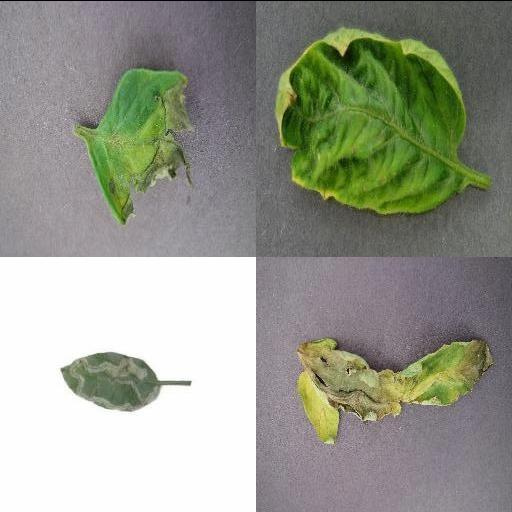Late Blight: (295, 336, 497, 446), (82, 64, 198, 224)
Leaf Miner: (60, 351, 161, 409)
Yellow Leaf Curl Virus: (274, 27, 468, 212)
